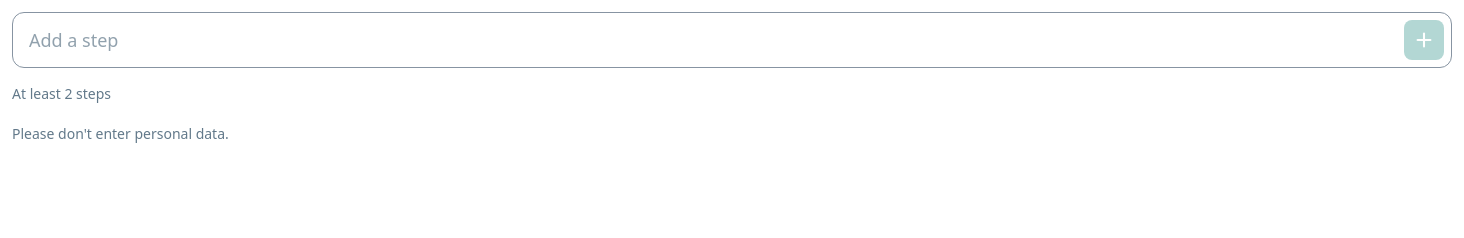
TraceEditor (free) › offers remote suggestions and ignores fetch failures
This screenshot has width=1464, height=238.
Later steps or results of the test are not shown.
Type "cof" into the dropdown with test id "trace-input".
click(732, 40); type("cof")  # box [12,12,1452,68]
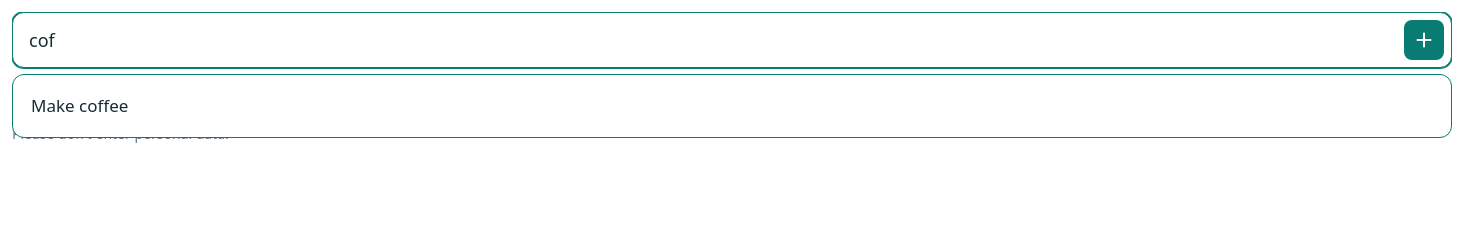
Click the option "Make coffee".
click(80, 106)  # box [31,94,128,117]
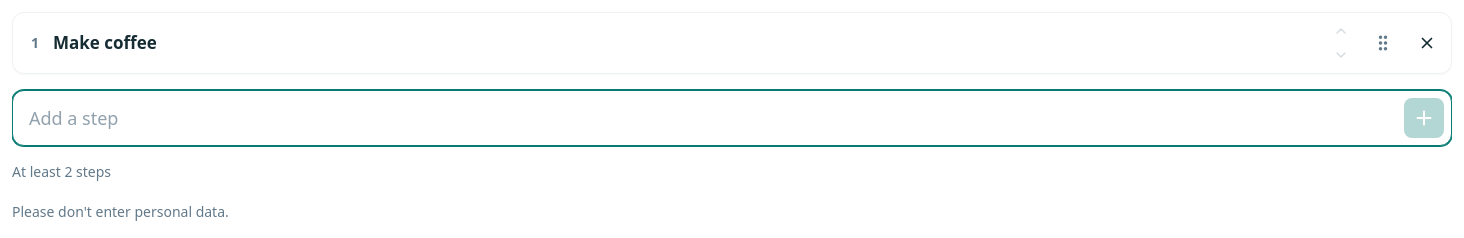
Expected: the number of list items with test id "trace-item" is 1, [12,12,1452,74]
